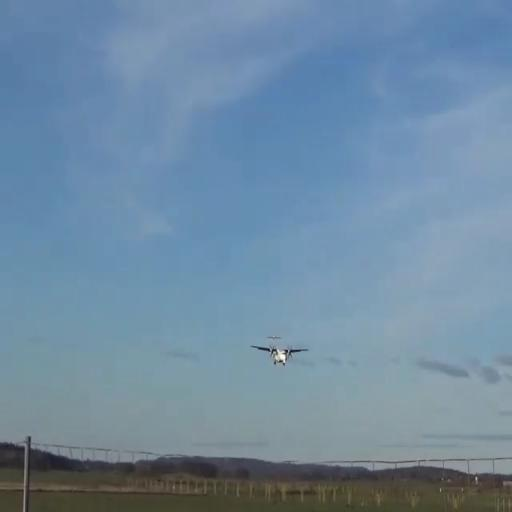not_drone: (242, 324, 318, 374)
